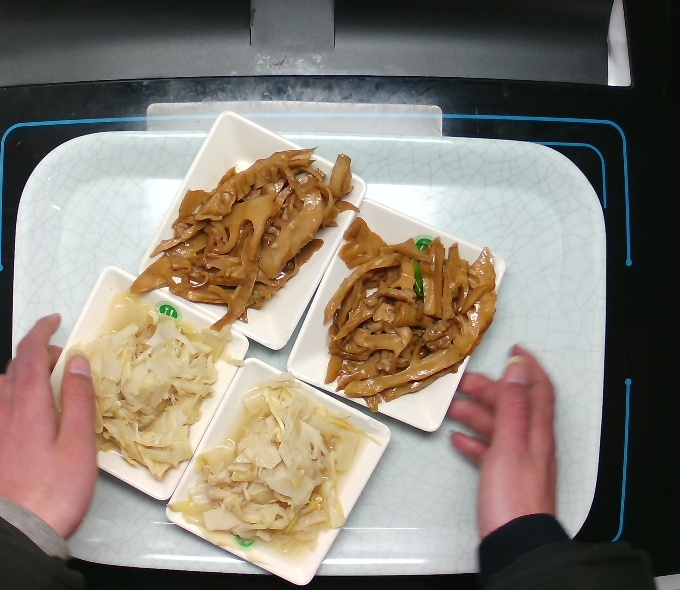wcq-LuSun: (166, 364, 370, 560), (66, 276, 242, 491)
wcq-SunGan: (124, 136, 358, 338), (316, 212, 501, 419)
